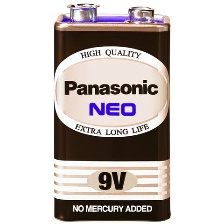battery: (52, 0, 175, 224)
